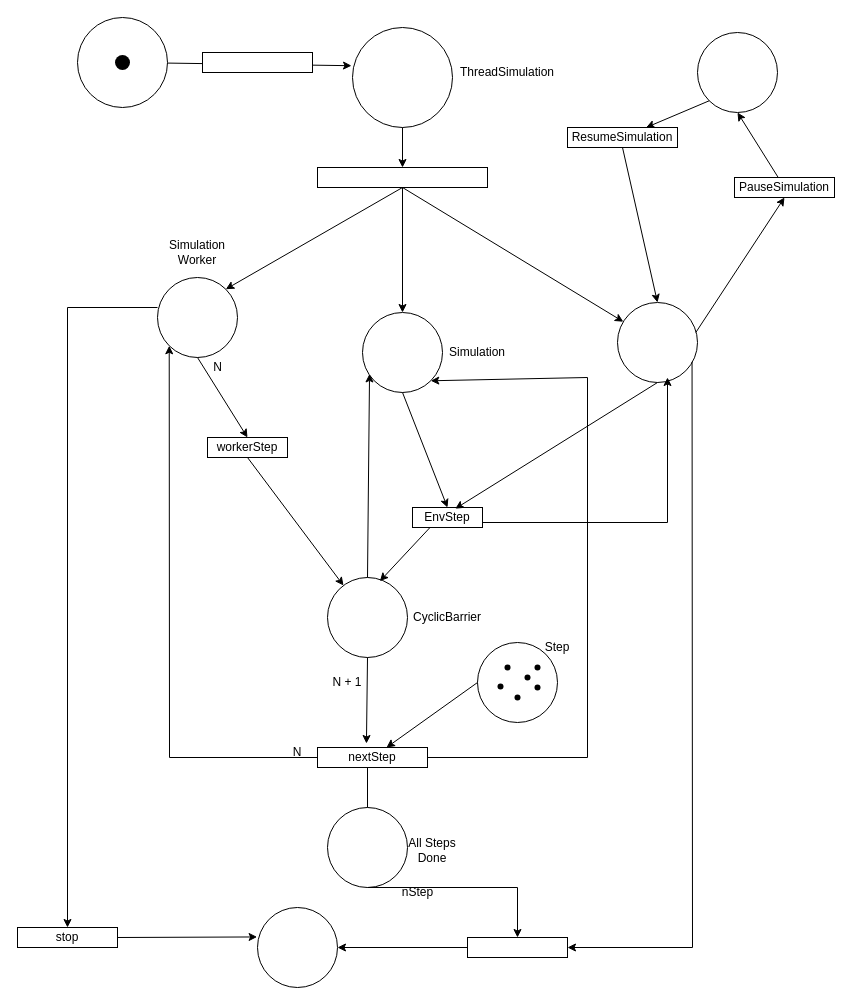
Some shapes in this 852 by 1005 pixel diagram are drawn without their labels. Here are the shapes that lost their labels. From the top down, the centre of each, then its label:
At (257,62): "Start Simulation".
At (402,177): "Run Simulation".
At (517,947): "end".
